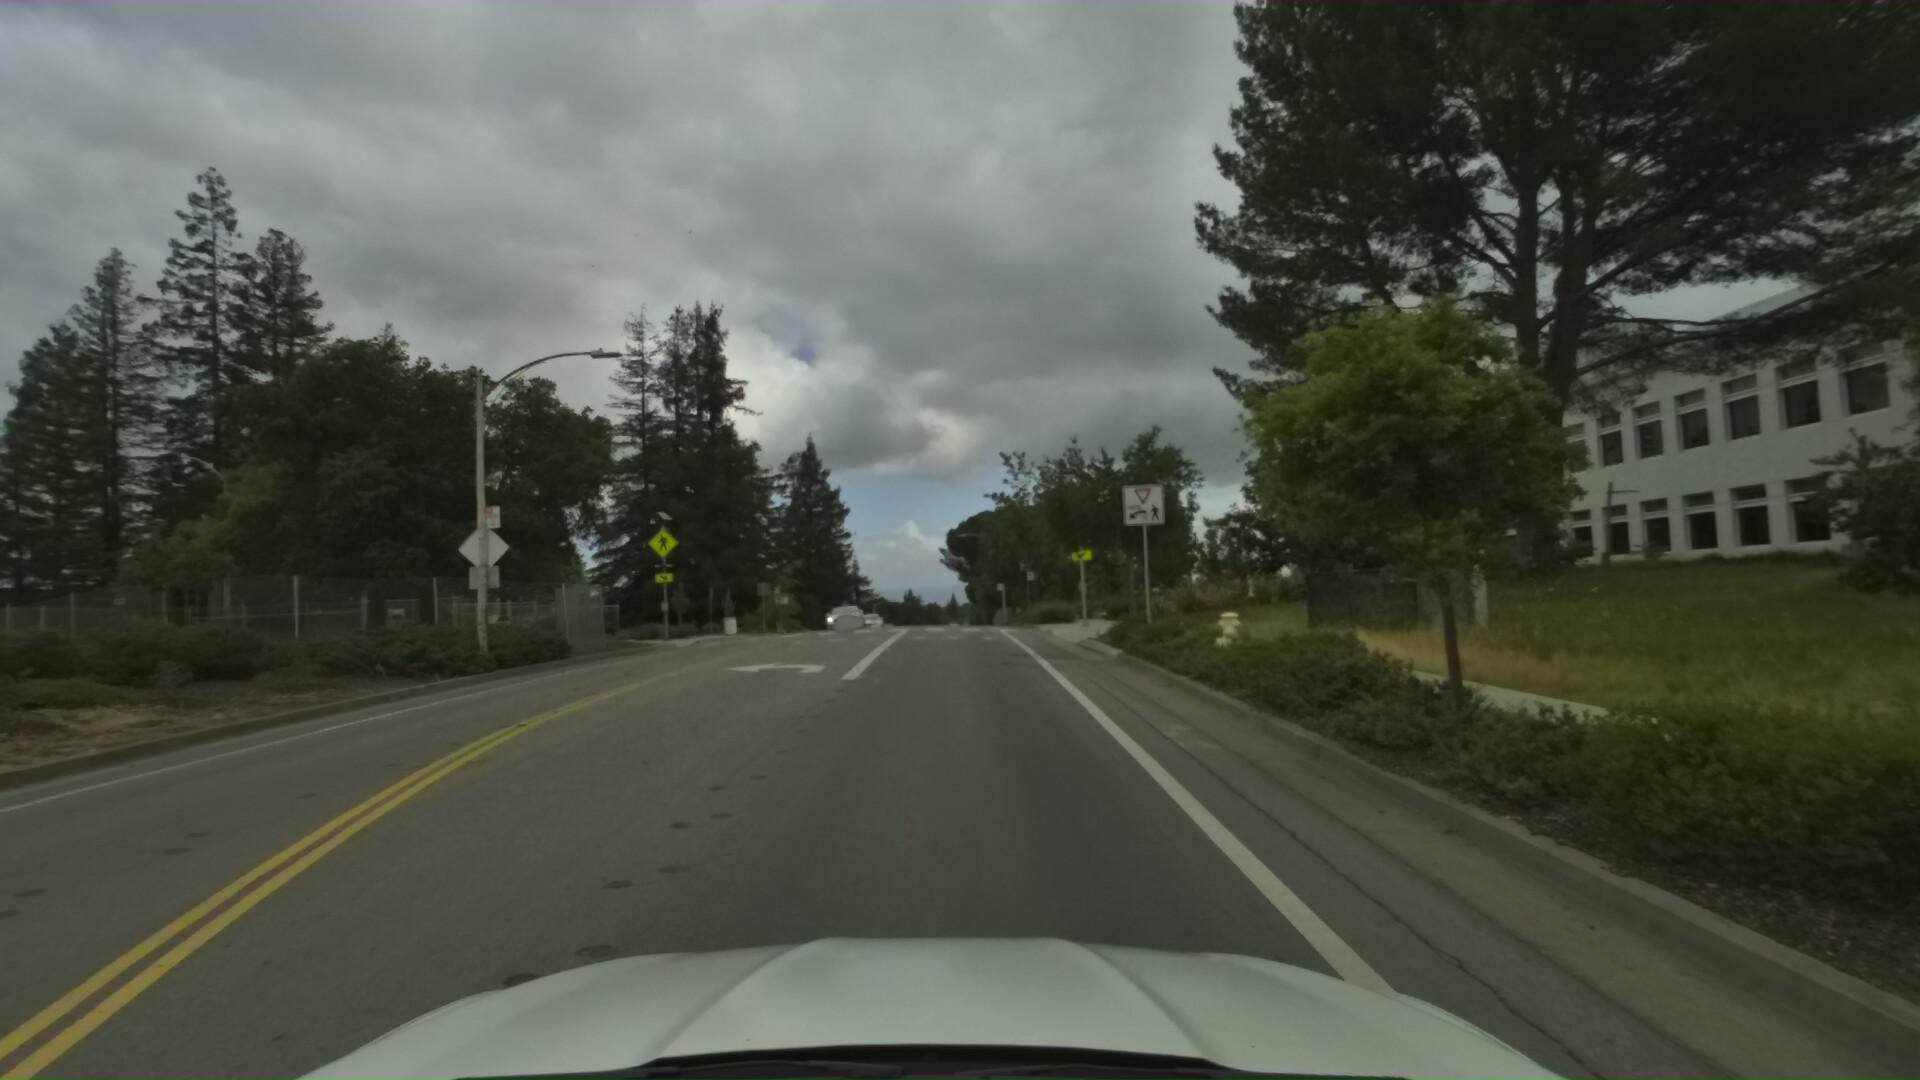car: (822, 585, 864, 620), (852, 601, 884, 625)
